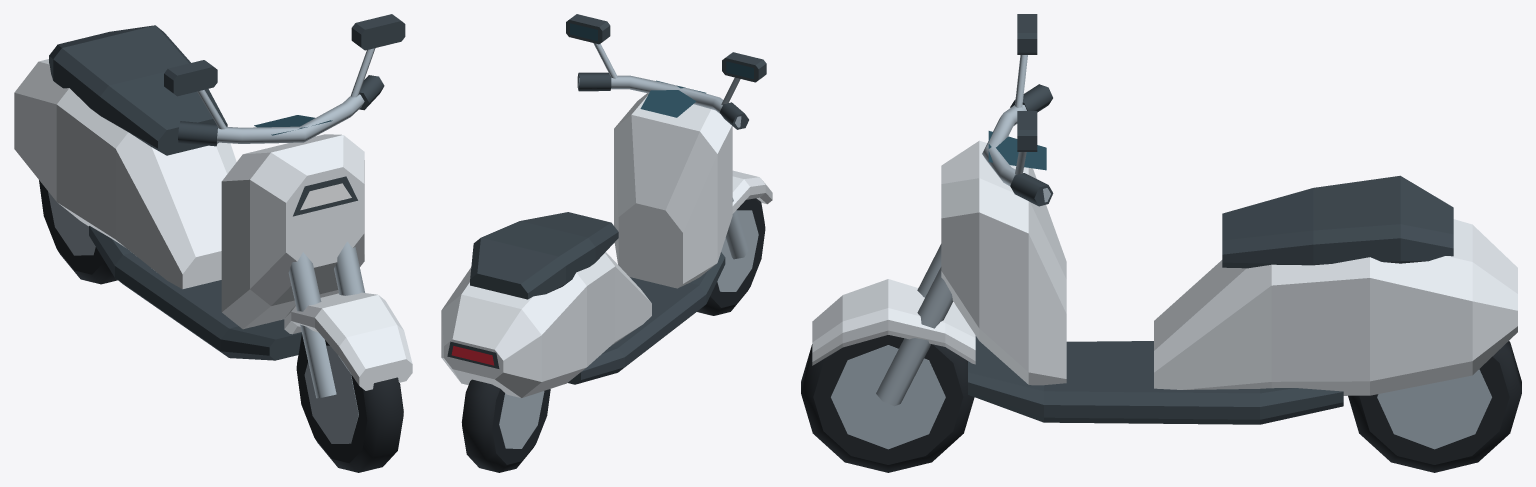
The model's file is motorbike.glb.
The picture shows the model from 3 angles, left to right: view 1: azimuth 30°, elevation 25°; view 2: azimuth 150°, elevation 25°; view 3: azimuth 270°, elevation 25°; orthographic projection. The views are drawn at different scales.
Visible parts, largest first — view 1: motorbike; view 2: motorbike; view 3: motorbike.
Boxes of the visible parts, x1,y1,x2,y2 form: motorbike: (14,14,412,472); motorbike: (441,14,772,472); motorbike: (801,14,1521,472).
Size of the model in its own units: 0.748 by 1.15 by 1.9.
